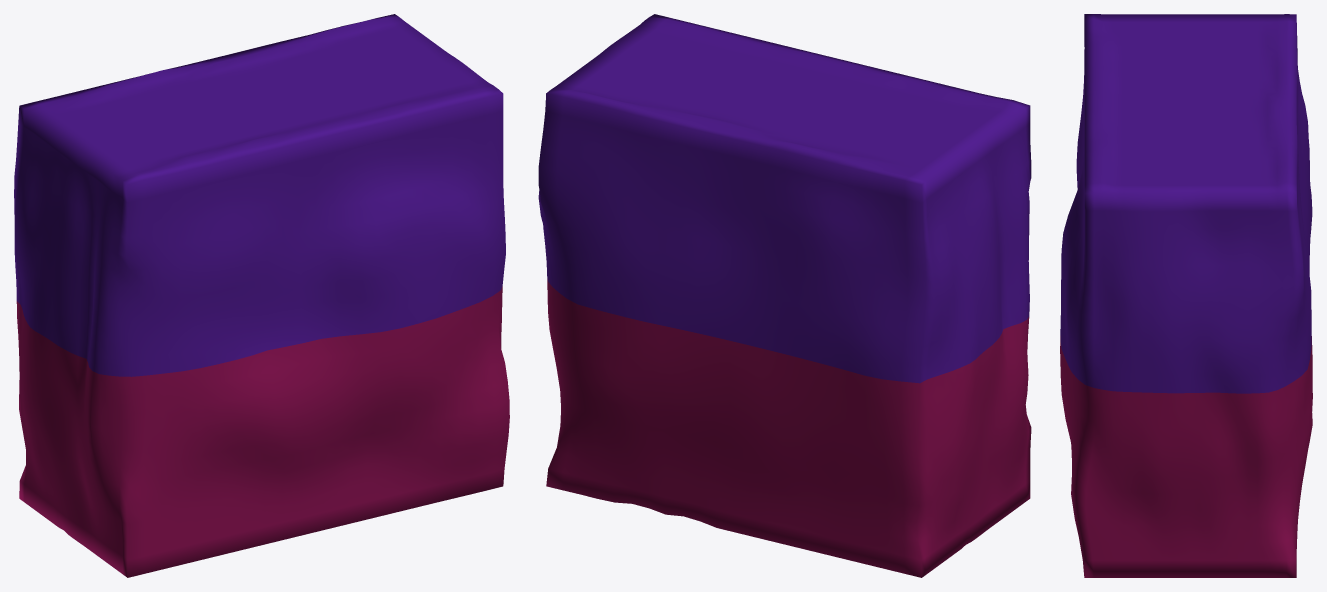
Rendered from Imodel.fbx.
3 renders of one model, left to right at view 1: azimuth 30°, elevation 25°; view 2: azimuth 150°, elevation 25°; view 3: azimuth 270°, elevation 25°, orthographic. The views are drawn at different scales.
Visible parts, largest first — view 1: S; view 2: S; view 3: S.
Part boxes in pixels (x1,y1,x2,y2): S: [14, 14, 509, 577]; S: [538, 14, 1031, 577]; S: [1060, 14, 1312, 577].
Size of the model in its own units: 220 by 203 by 119.
Materials: 1 (1 with a texture image).
